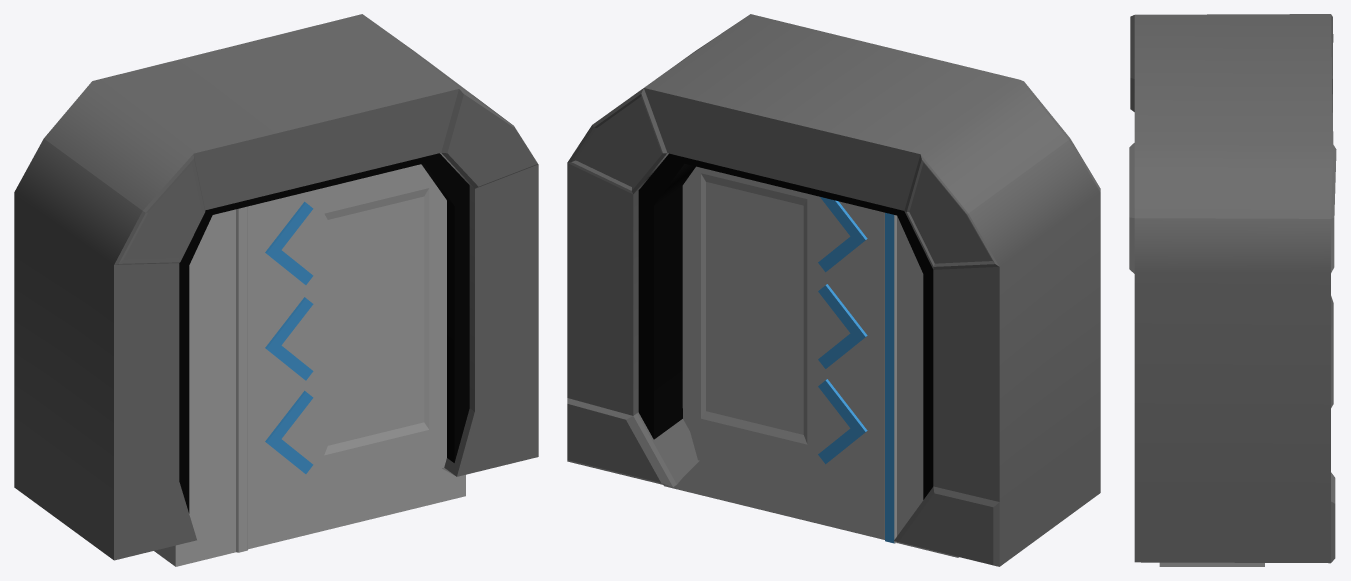
Rendered from Blue Door.fbx.
3 views of the same model, side by side, from view 1: azimuth 30°, elevation 25°; view 2: azimuth 150°, elevation 25°; view 3: azimuth 270°, elevation 25° (orthographic). The views are drawn at different scales.
Parts seen in each view (by area): view 1: pCube868, pCube867; view 2: pCube868, pCube867; view 3: pCube868, pCube867.
Boxes of the visible parts, x1,y1,x2,y2 form: pCube868: (14,14,538,560); pCube867: (154,164,465,566); pCube868: (567,14,1100,566); pCube867: (663,166,958,557); pCube868: (1129,14,1336,563); pCube867: (1159,562,1264,566).
Size of the model in its own units: 17.44 by 16.49 by 7.45.
